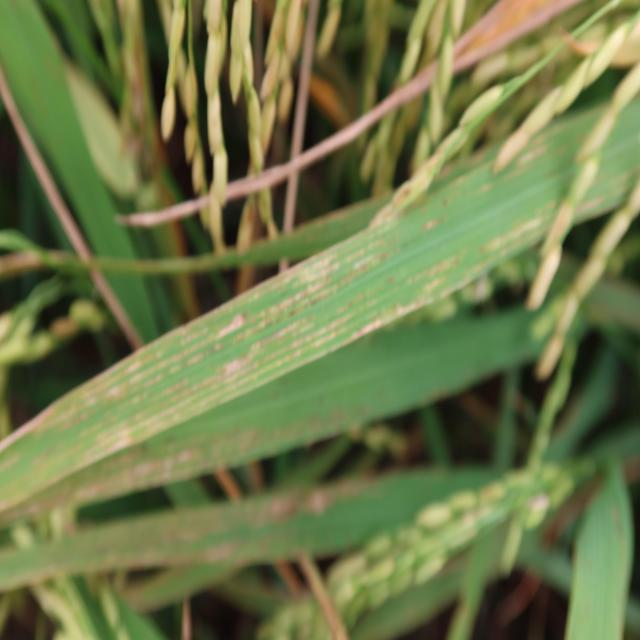Dom soc vi khuan: (219, 348, 327, 406), (262, 244, 343, 319), (337, 296, 434, 347), (129, 336, 208, 385), (74, 422, 131, 474), (290, 311, 356, 350), (131, 394, 198, 431), (222, 341, 261, 383), (313, 326, 346, 349), (219, 311, 244, 339), (180, 328, 208, 348), (352, 253, 374, 271), (124, 361, 141, 375), (144, 374, 161, 388), (188, 352, 202, 366)
